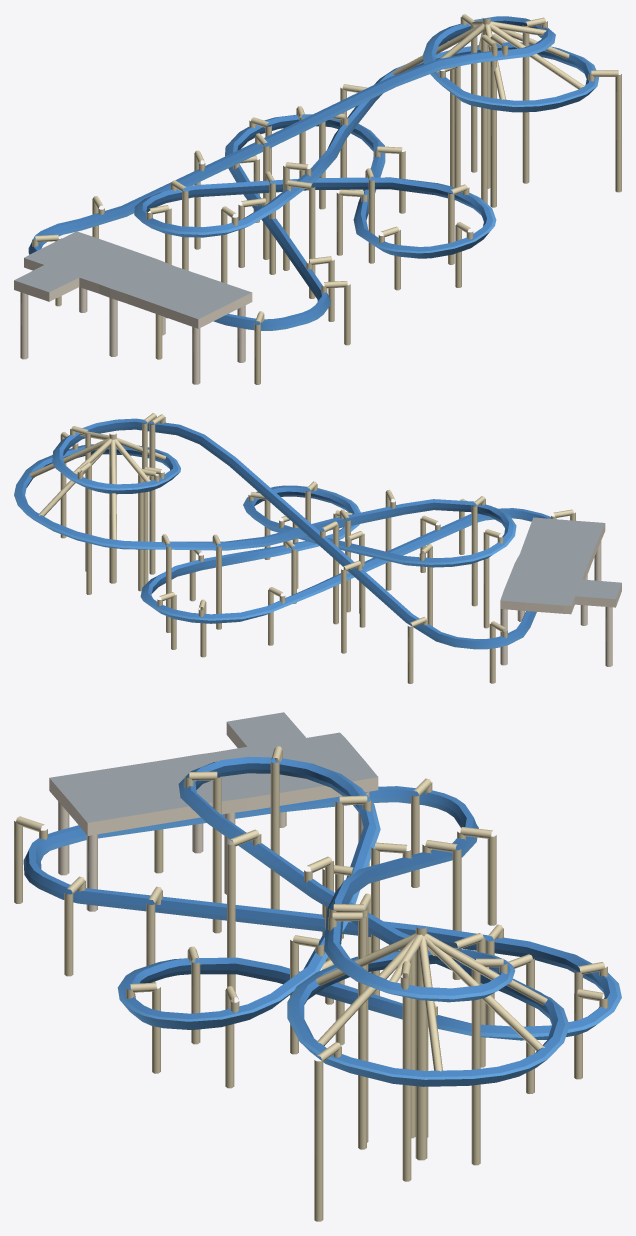
Rendered from carowinds-kiddy-hawk.glb.
3 views of the same model, one above another, from view 1: azimuth 30°, elevation 25°; view 2: azimuth 150°, elevation 25°; view 3: azimuth 270°, elevation 25° (orthographic). The views are drawn at different scales.
Visible parts, largest first — view 1: Kiddy Hawk; view 2: Kiddy Hawk; view 3: Kiddy Hawk.
Boxes of the visible parts, x1,y1,x2,y2 form: Kiddy Hawk: (14, 14, 621, 384); Kiddy Hawk: (14, 413, 621, 683); Kiddy Hawk: (14, 712, 621, 1221).
Size of the model in its own units: 61.25 by 17.4 by 38.05.
